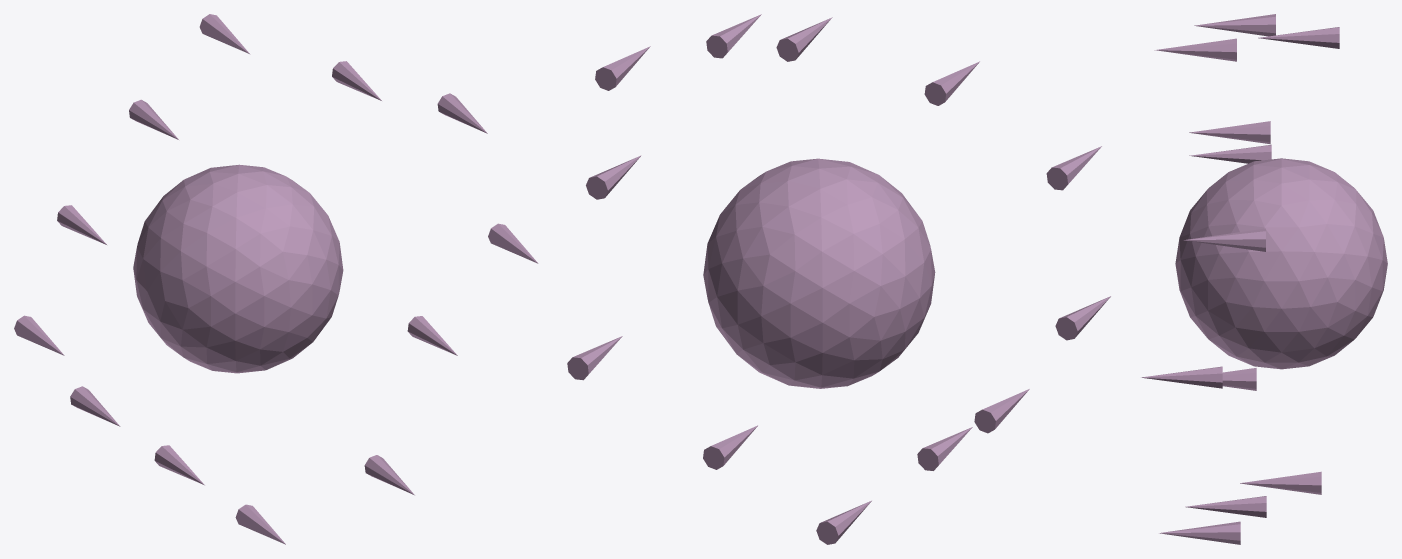
File: nature_163.glb
The picture shows the model from 3 angles, left to right: view 1: azimuth 30°, elevation 25°; view 2: azimuth 150°, elevation 25°; view 3: azimuth 270°, elevation 25°; orthographic projection. The views are drawn at different scales.
Parts seen in each view (by area): view 1: world; view 2: world; view 3: world.
Part boxes in pixels (x1=…): world: x1=14, y1=14, x2=538, y2=544; world: x1=567, y1=14, x2=1110, y2=544; world: x1=1141, y1=14, x2=1387, y2=544.
Bounding box in the file's own units: 2.32 × 2.29 × 1.05.
